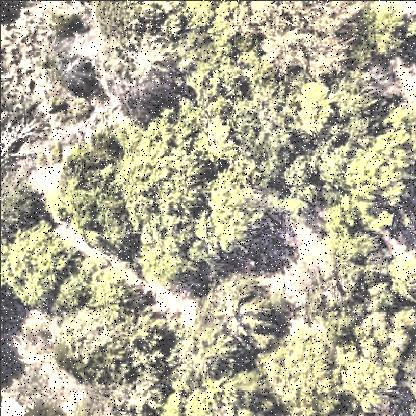tree-top: (116, 117, 209, 244), (331, 118, 416, 230), (191, 276, 277, 364), (263, 329, 349, 416), (198, 163, 273, 255), (246, 1, 341, 73), (218, 80, 295, 168), (56, 310, 155, 378), (277, 252, 362, 329), (2, 228, 73, 312), (96, 38, 165, 122), (327, 73, 395, 143), (161, 375, 277, 416), (289, 144, 354, 213), (194, 32, 244, 116), (351, 3, 416, 67), (45, 28, 103, 99), (82, 364, 159, 416), (352, 308, 416, 366), (84, 264, 139, 323), (290, 76, 338, 143), (187, 118, 241, 170), (341, 359, 394, 409), (93, 1, 154, 40), (390, 248, 416, 309), (181, 1, 213, 31)
